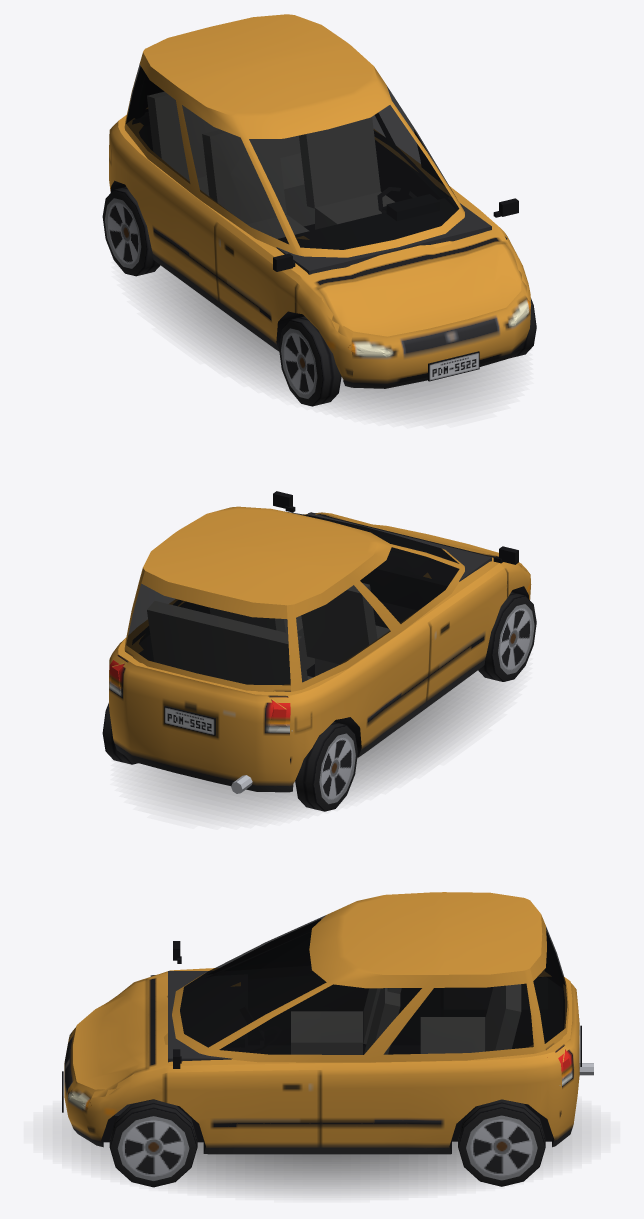
File: pudim.glb
The picture shows the model from 3 angles, top to bottom: view 1: azimuth 30°, elevation 25°; view 2: azimuth 150°, elevation 25°; view 3: azimuth 270°, elevation 25°; orthographic projection.
Parts seen in each view (by area): view 1: Carroceria, Interior, Capo_malha, Sombra, Porta_D_malha, Roda_DD, Roda_TD, Porta_E_malha, Tampa_malha, Farol; view 2: Carroceria, Tampa_malha, Interior, Sombra, Porta_D_malha, Roda_TD, Roda_DD, Capo_malha, Lanterna, Roda_TE; view 3: Carroceria, Interior, Porta_E_malha, Sombra, Roda_DE, Capo_malha, Roda_TE, Tampa_malha, Porta_D_malha.
Part boxes in pixels (left/top/right/bottom): Carroceria: left=109, top=14, right=531, bottom=388; Interior: left=132, top=92, right=507, bottom=274; Capo_malha: left=316, top=242, right=526, bottom=339; Sombra: left=137, top=266, right=508, bottom=414; Porta_D_malha: left=214, top=147, right=298, bottom=341; Roda_DD: left=278, top=316, right=341, bottom=406; Roda_TD: left=102, top=186, right=160, bottom=276; Porta_E_malha: left=397, top=111, right=518, bottom=235; Tampa_malha: left=127, top=67, right=163, bottom=122; Farol: left=348, top=301, right=530, bottom=357; Carroceria: left=109, top=506, right=531, bottom=793; Tampa_malha: left=123, top=571, right=290, bottom=771; Interior: left=132, top=512, right=491, bottom=684; Sombra: left=134, top=671, right=503, bottom=816; Porta_D_malha: left=397, top=546, right=518, bottom=699; Roda_TD: left=295, top=722, right=357, bottom=811; Roda_DD: left=478, top=592, right=536, bottom=681; Capo_malha: left=316, top=512, right=526, bottom=571; Lanterna: left=109, top=662, right=298, bottom=731; Roda_TE: left=102, top=703, right=137, bottom=764; Carroceria: left=62, top=892, right=593, bottom=1154; Interior: left=114, top=938, right=564, bottom=1115; Porta_E_malha: left=165, top=989, right=320, bottom=1145; Sombra: left=62, top=1119, right=581, bottom=1193; Roda_DE: left=109, top=1099, right=197, bottom=1187; Capo_malha: left=78, top=978, right=147, bottom=1097; Roda_TE: left=458, top=1099, right=545, bottom=1186; Tampa_malha: left=530, top=914, right=581, bottom=1115; Porta_D_malha: left=173, top=919, right=320, bottom=974.
Bounding box in the file's own units: 2.38 × 1.58 × 4.28.
12 materials, 6 textured.
